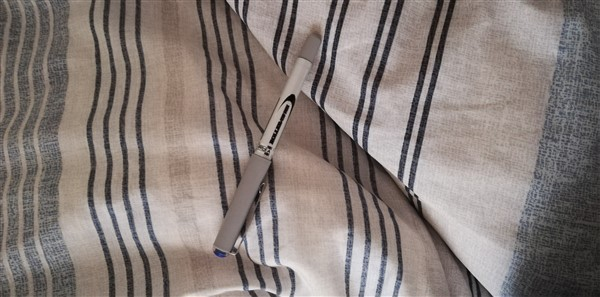pilot kalem: (208, 31, 324, 262)
